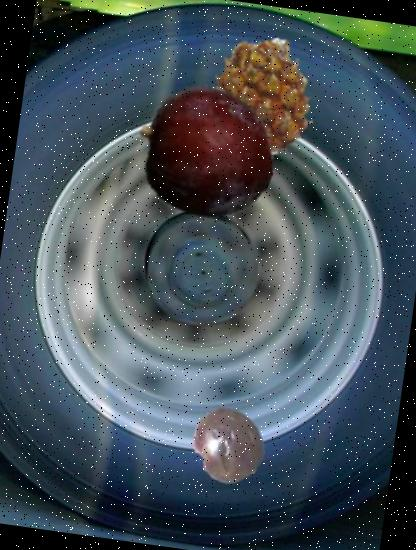Passion: (184, 400, 272, 490)
Pineapple: (196, 30, 329, 163)
Plum: (128, 74, 286, 232)
